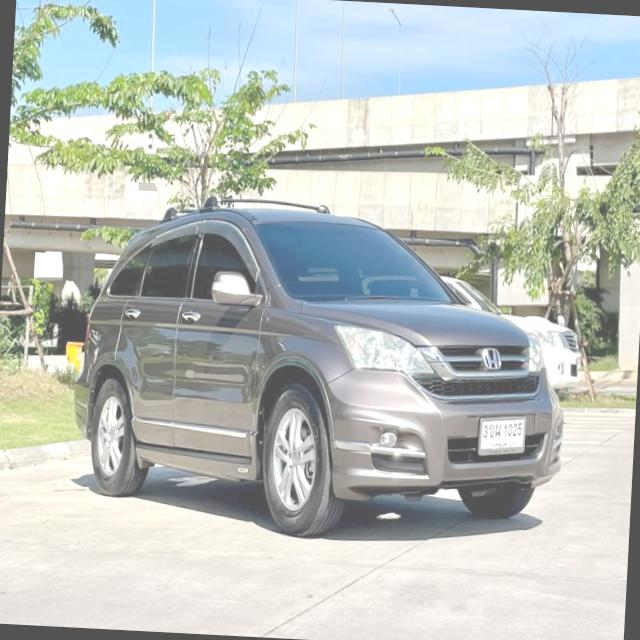license_plate: (473, 411, 532, 464)
